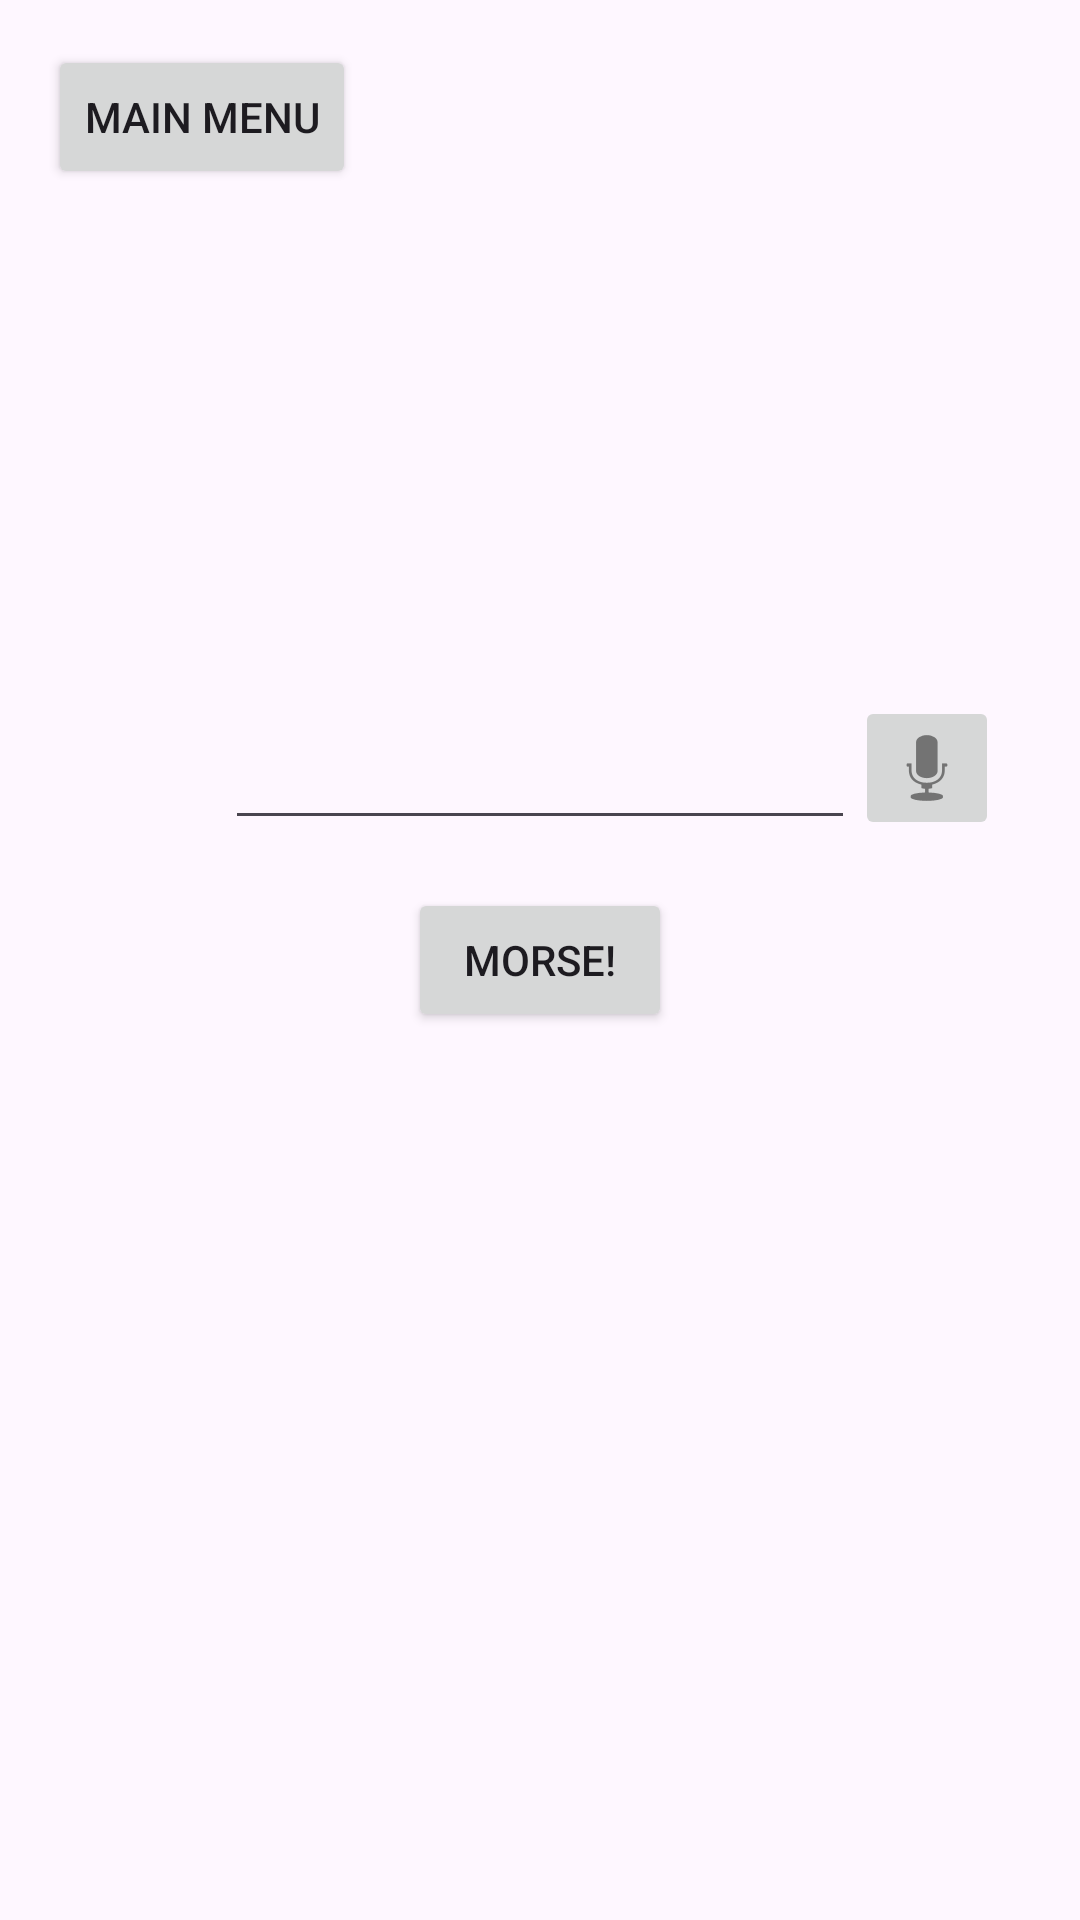

Named icons in this screenshot (1080px×1920px) and their bounding boxes, (x1, y1, x2, y2):
speak now: (867, 714, 987, 822)
